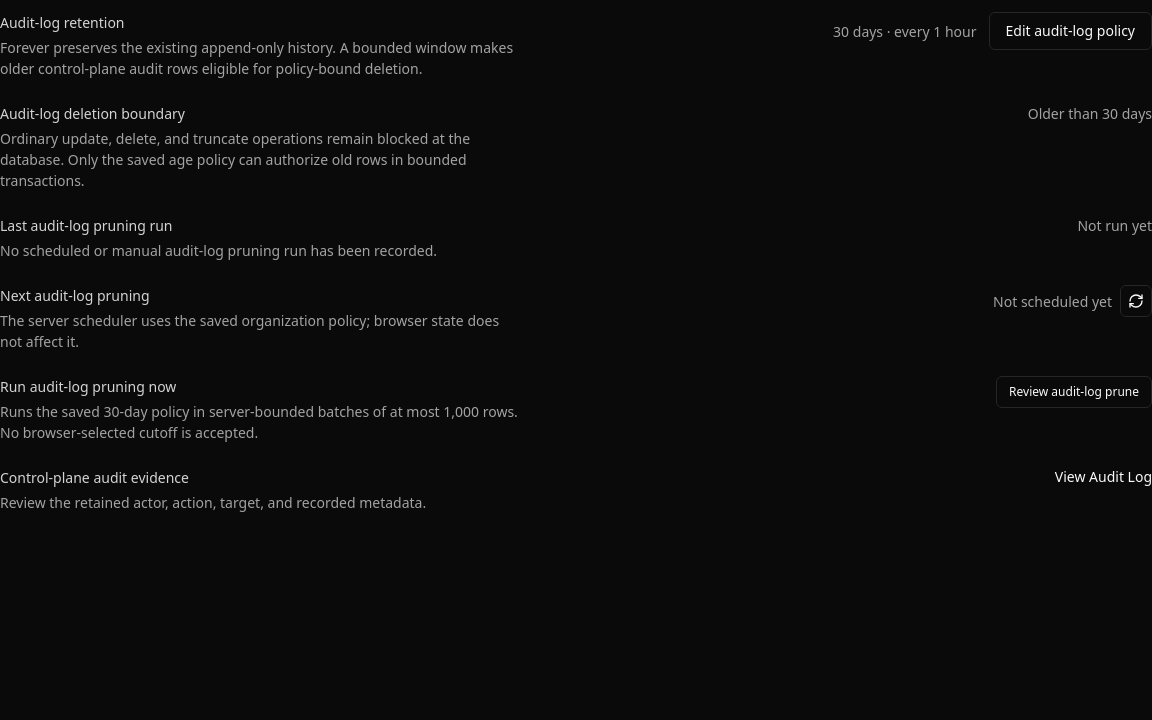
Test: audit-log retention settings › keeps an unknown-outcome request key across dismiss and reopen
Expected: the text "30 days · every 1 hour" is shown, 833,20 -> 976,42
Click the button "Review audit-log prune" at (1074, 392), box 996,376 -> 1151,408
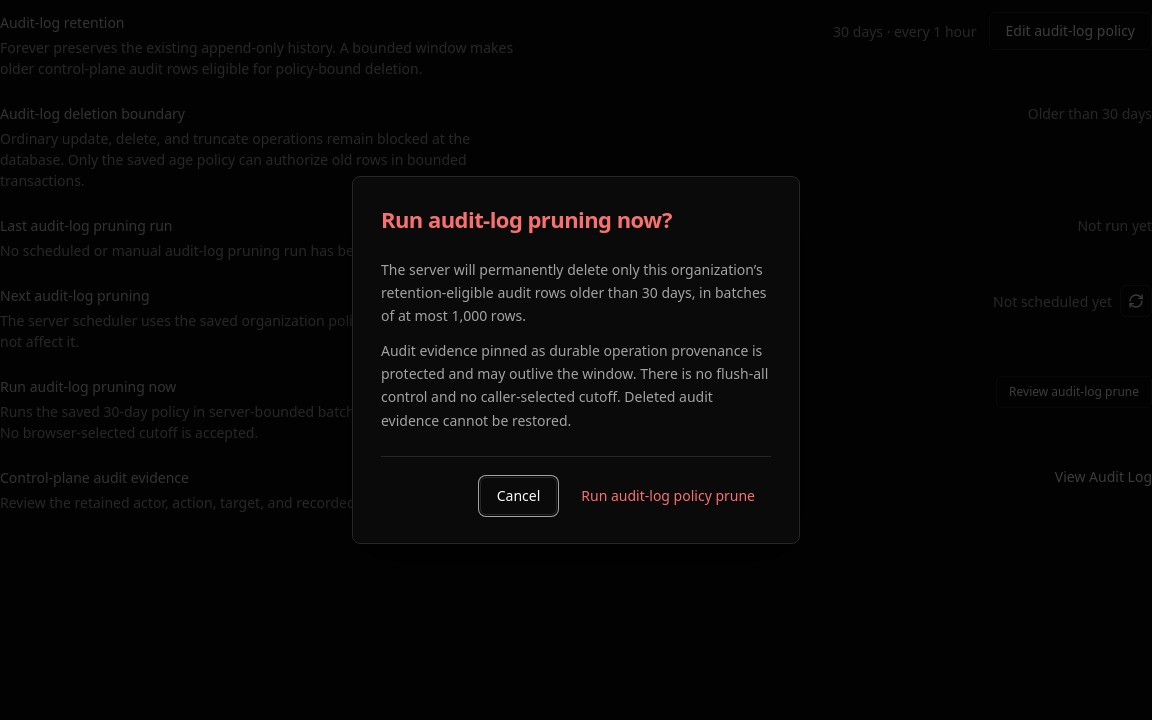
Result: the dialog "Run audit-log pruning now?" is shown at 352,176 -> 800,544
Result: the text "older than 30 days, in batches of at most 1,000 rows" is shown at 381,258 -> 771,327
Click the button "Run audit-log policy prune" at (668, 496), box 565,477 -> 771,515
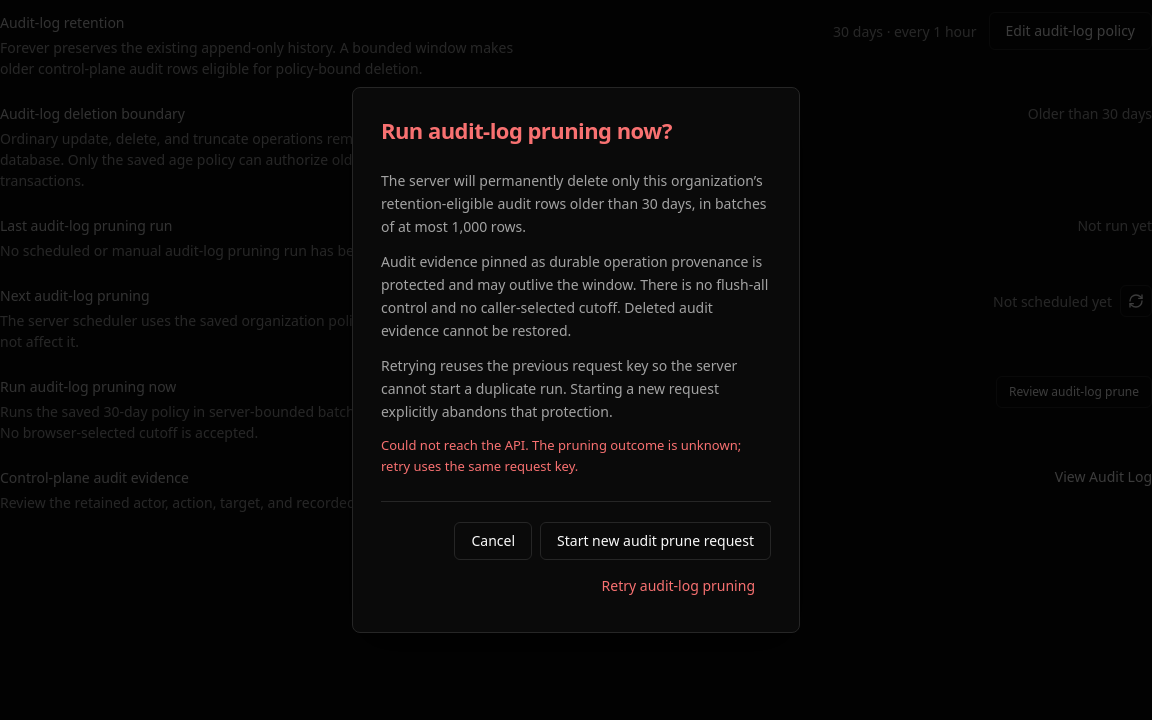
Result: the text "outcome is unknown" is shown at 381,436 -> 741,475
Click the button "Cancel" at (493, 541), box 454,522 -> 532,560
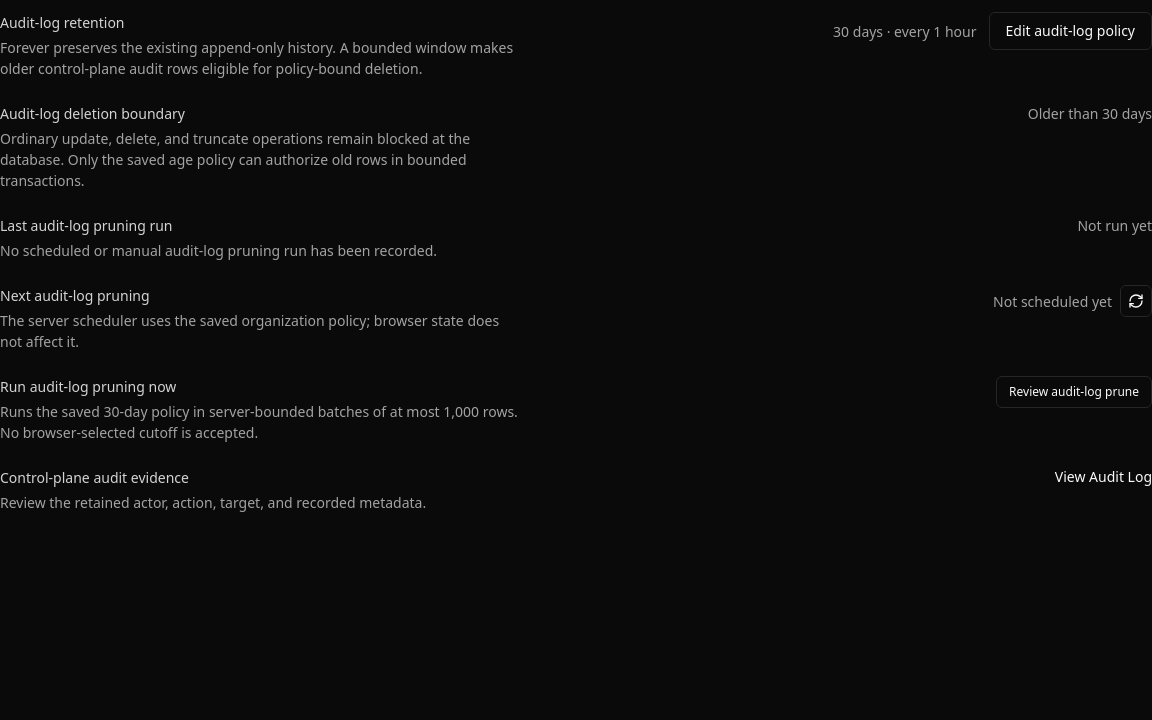
Result: the dialog is gone
Click the button "Review audit-log prune" at (1074, 392), box 996,376 -> 1151,408
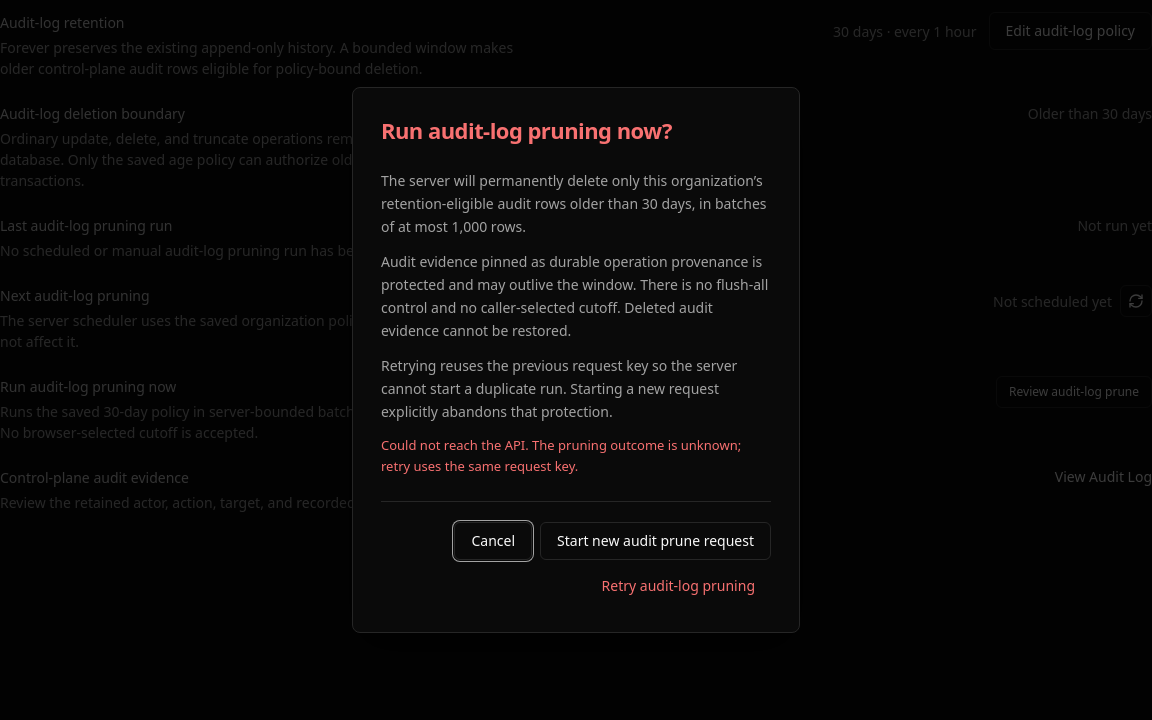
Result: the text "Retrying reuses the previous request key" is shown at 381,356 -> 737,421
Click the button "Retry audit-log pruning" at (678, 586), box 586,568 -> 771,604
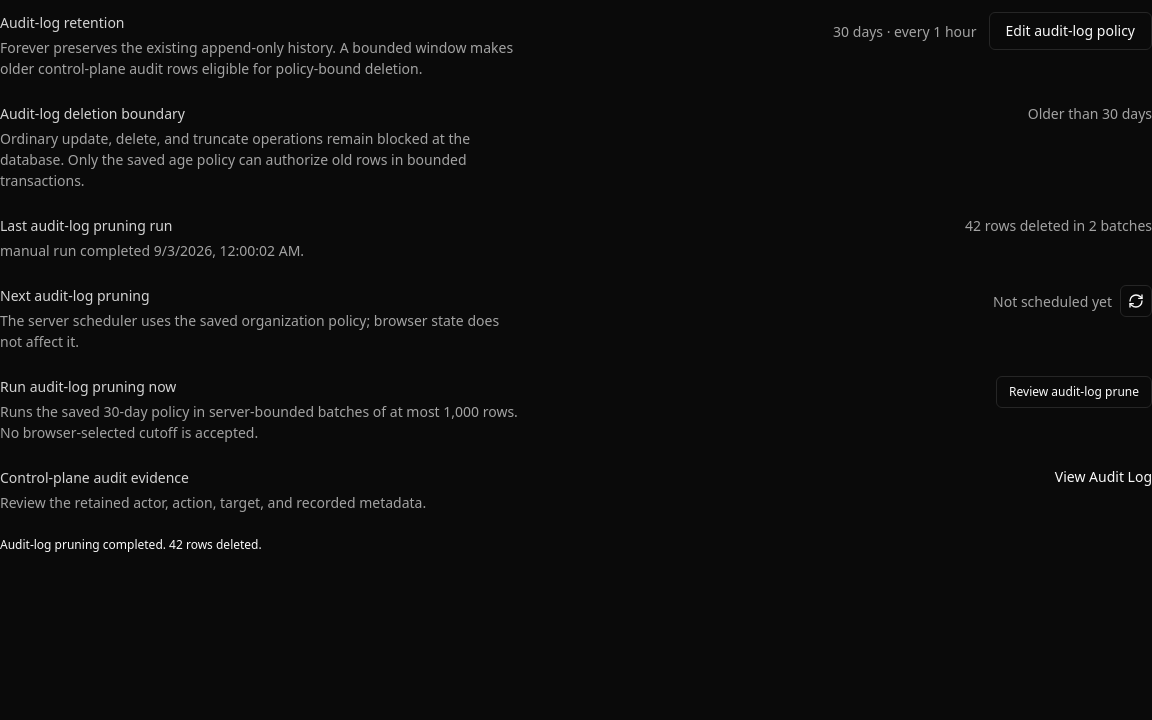
Result: the text "Audit-log pruning completed. 42 rows deleted." is shown at 0,536 -> 262,553
